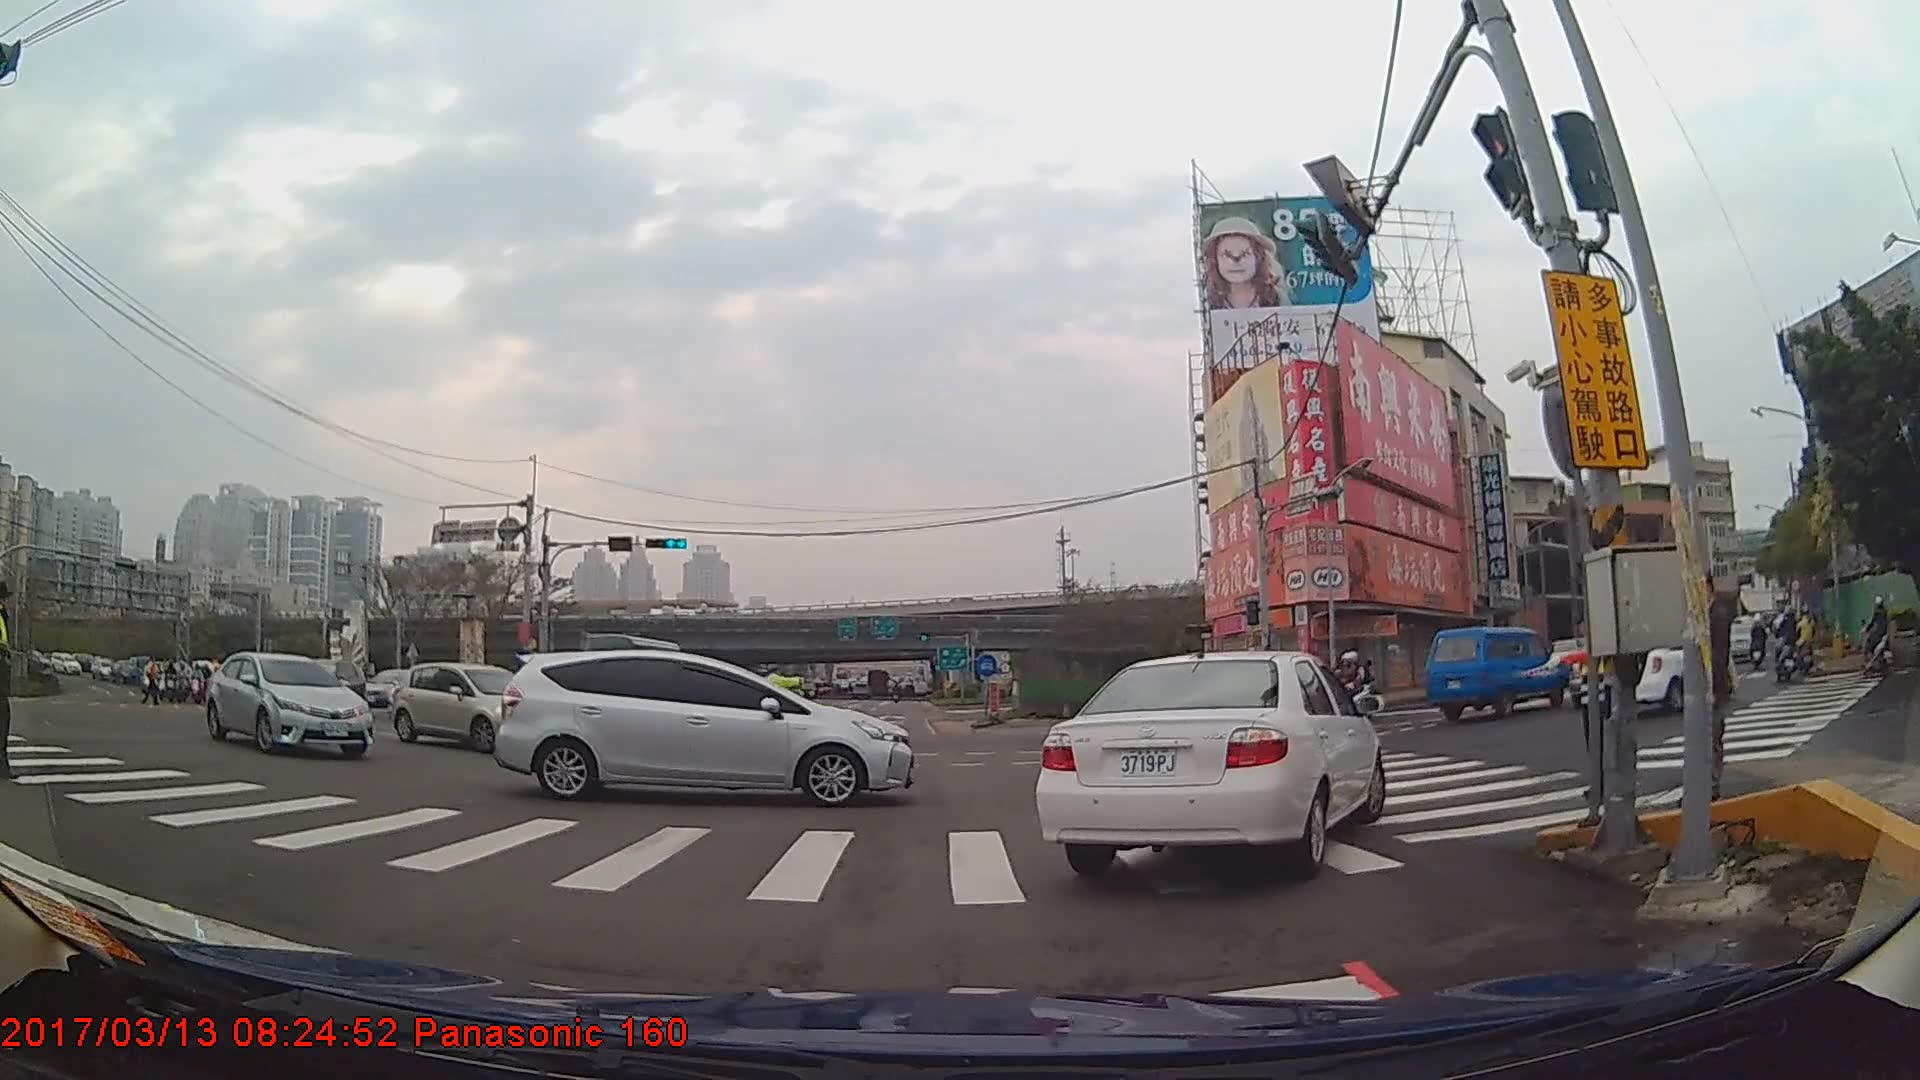pedestrian: (1658, 560, 1739, 817)
rider: (1861, 592, 1895, 683), (1774, 604, 1803, 683), (1794, 606, 1817, 680), (1749, 613, 1770, 673)
vehicle: (1038, 645, 1386, 876), (491, 649, 910, 809), (203, 652, 376, 762), (390, 661, 543, 750), (1419, 625, 1565, 719), (283, 656, 367, 721)
